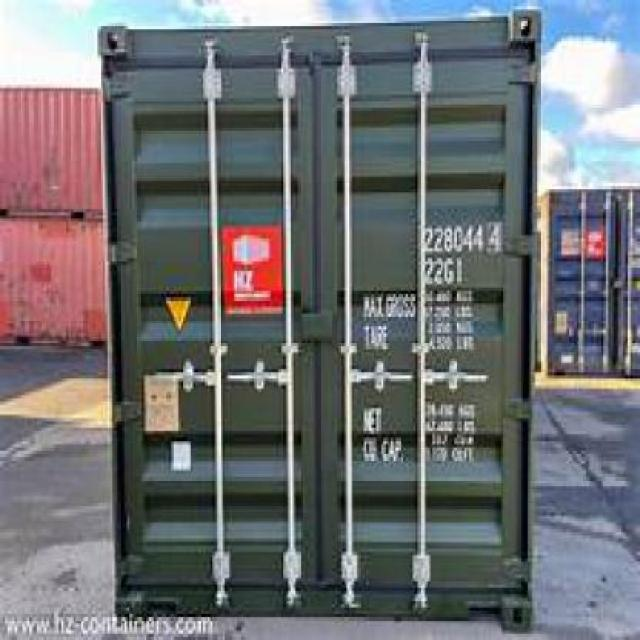ISO: (416, 256, 466, 282)
container_number: (421, 225, 502, 250)
